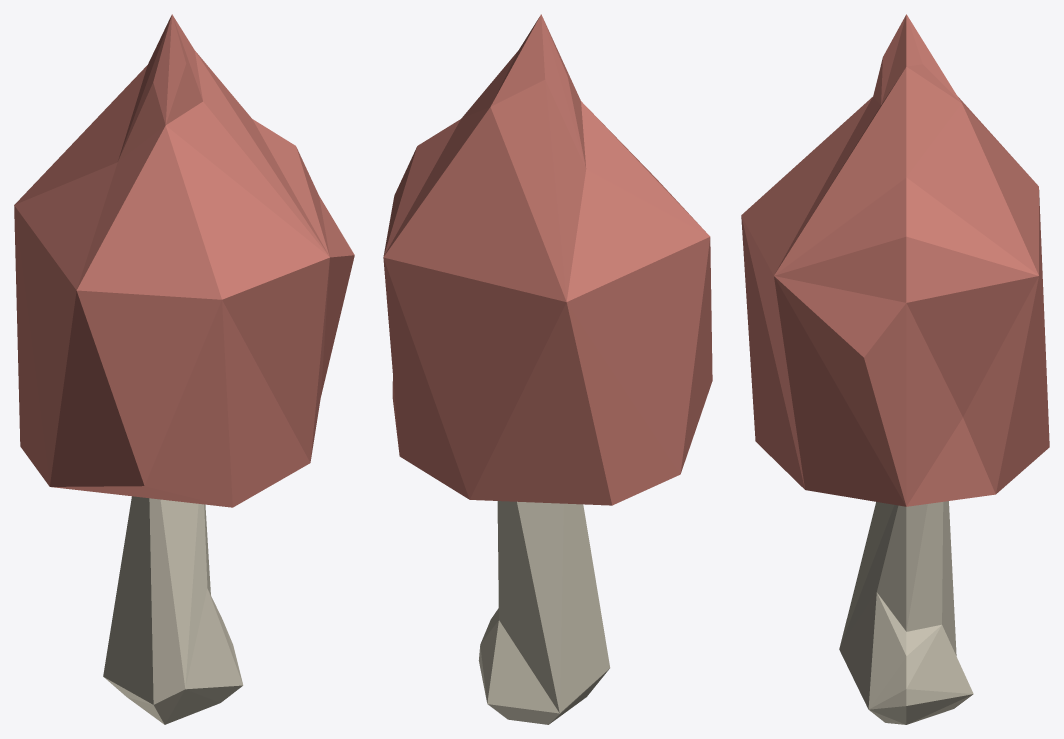
Rendered from mushroom01.fbx.
3 renders of one model, left to right at view 1: azimuth 30°, elevation 25°; view 2: azimuth 150°, elevation 25°; view 3: azimuth 270°, elevation 25°, orthographic.
Parts seen in each view (by area): view 1: revolvedSurface2; view 2: revolvedSurface2; view 3: revolvedSurface2.
Boxes of the visible parts, x1,y1,x2,y2 form: revolvedSurface2: (14,14,354,724); revolvedSurface2: (383,14,712,724); revolvedSurface2: (741,14,1049,724).
Bounding box in the file's own units: 0.0345 × 0.0775 × 0.0314.
